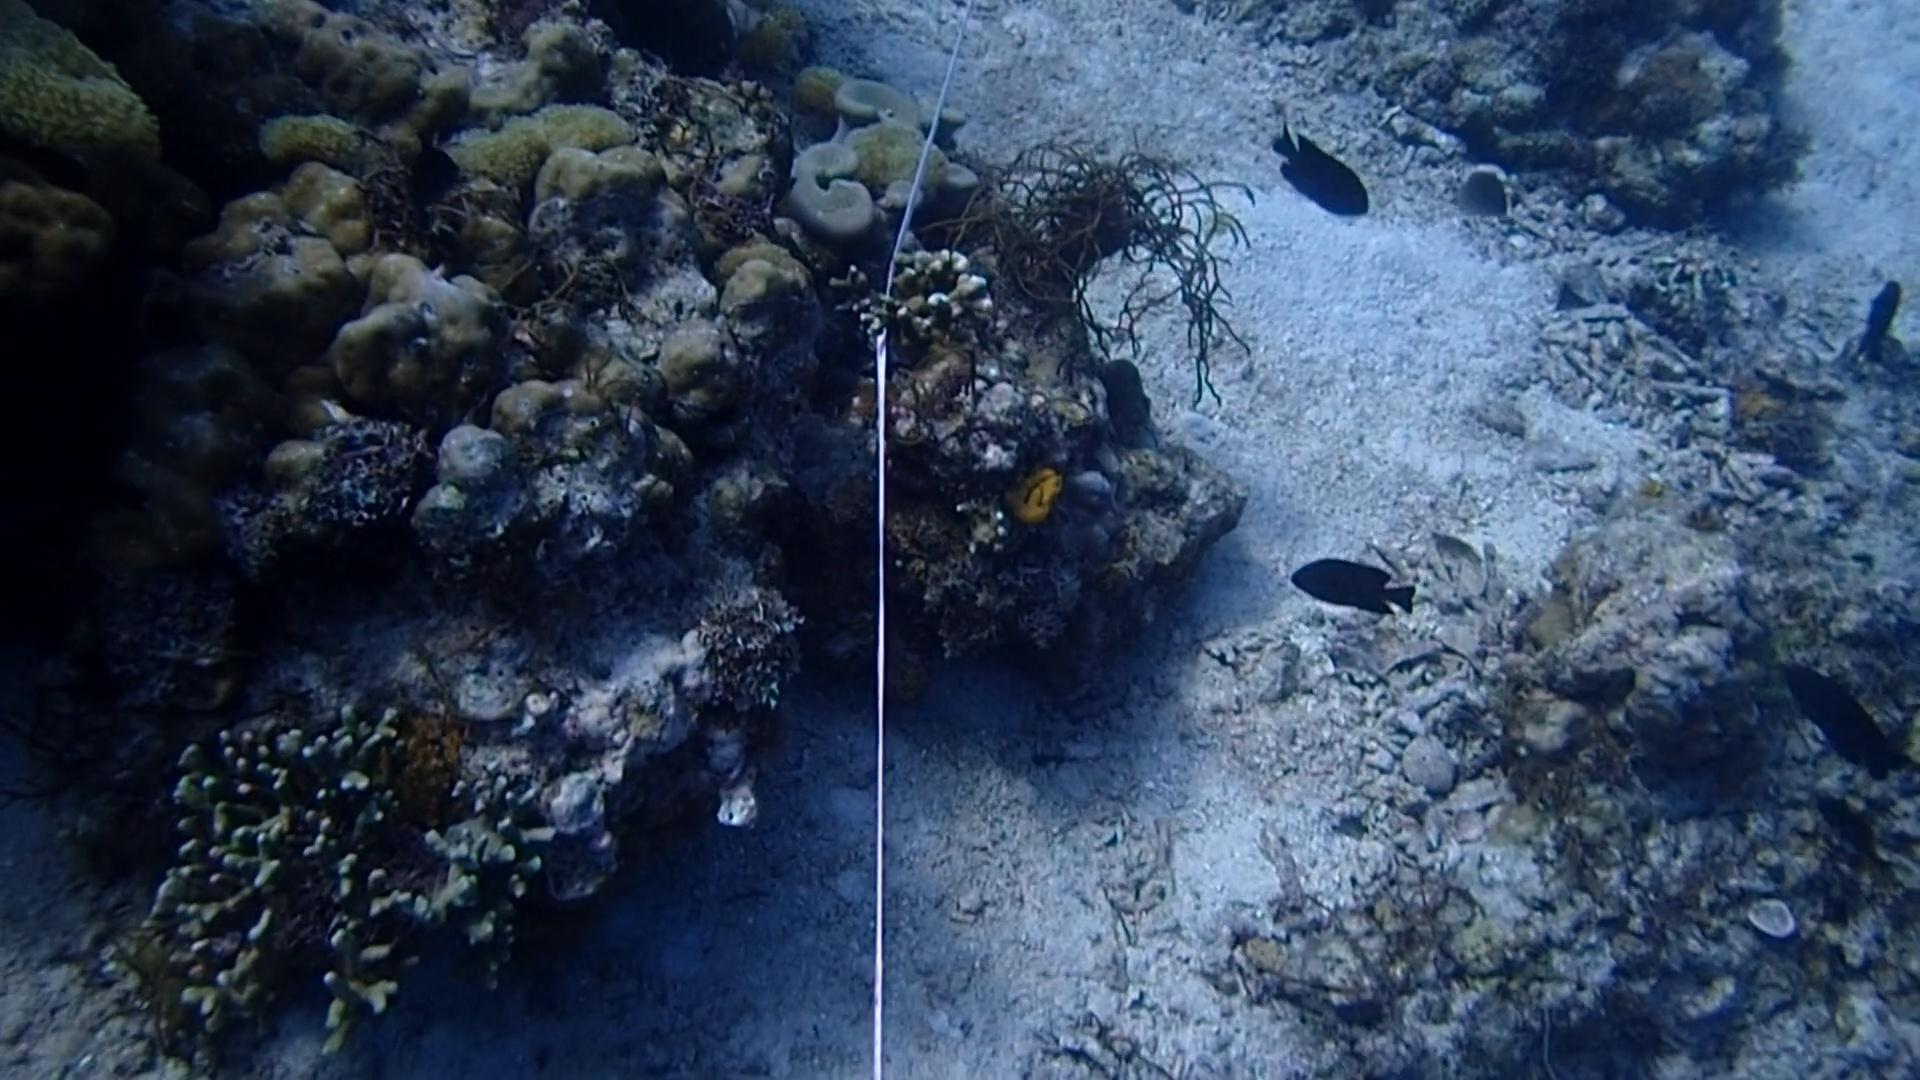Dark Fish: (1776, 644, 1900, 770), (1253, 112, 1386, 222), (1284, 545, 1425, 622), (1808, 783, 1902, 898), (1838, 262, 1913, 365)
Light Fish: (1444, 167, 1520, 227)
